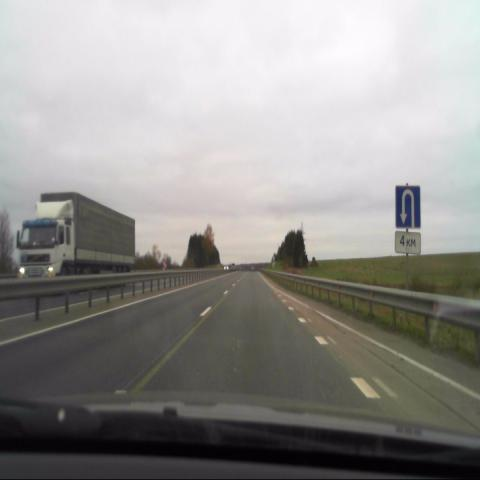6_3_1: (395, 185, 420, 228)
